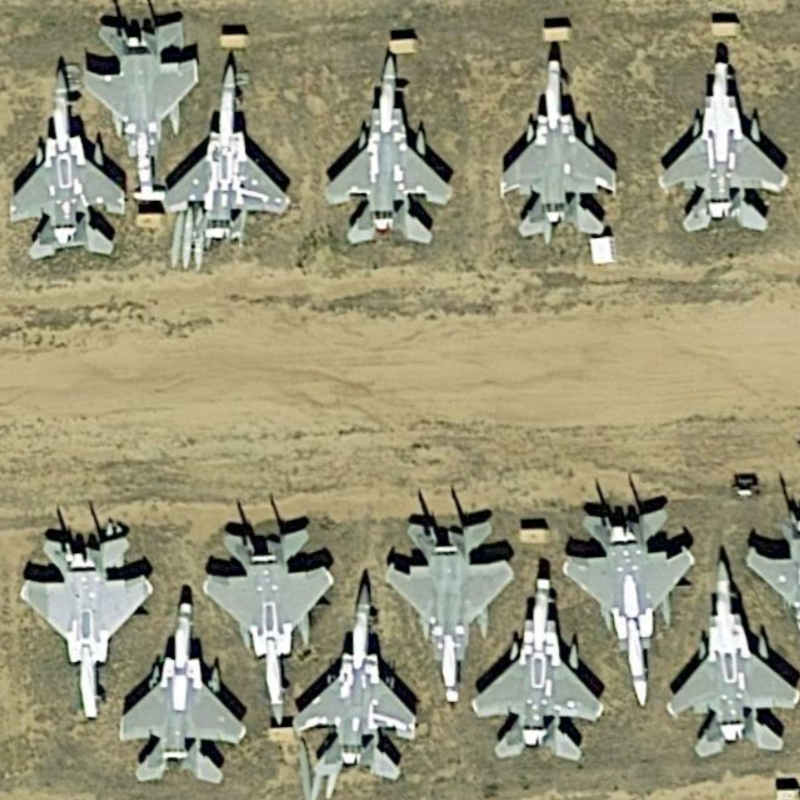A13: (289, 565, 431, 800), (563, 487, 702, 712), (198, 516, 342, 727), (317, 44, 459, 252), (649, 44, 793, 239), (381, 501, 513, 713), (7, 50, 136, 266), (477, 560, 606, 772), (162, 51, 296, 255), (18, 528, 155, 727), (667, 544, 800, 745), (493, 50, 624, 249), (119, 592, 246, 789), (81, 13, 198, 211)
